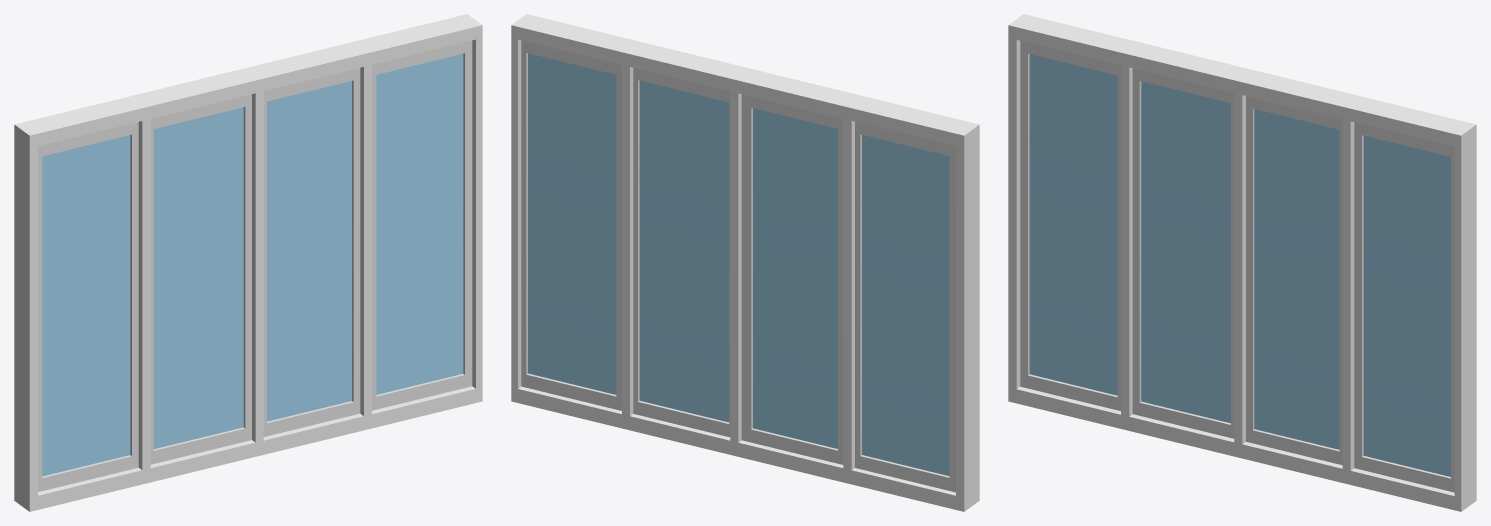
File: window_011.fbx
3 views of the same model, side by side, from view 1: azimuth 30°, elevation 25°; view 2: azimuth 150°, elevation 25°; view 3: azimuth 330°, elevation 25° (orthographic).
Visible parts, largest first — view 1: window_011; view 2: window_011; view 3: window_011.
Part boxes in pixels (x1,y1,x2,y2): window_011: (14,14,482,511); window_011: (511,14,979,511); window_011: (1008,14,1476,511).
Size of the model in its own units: 374 by 21.92 by 297.
